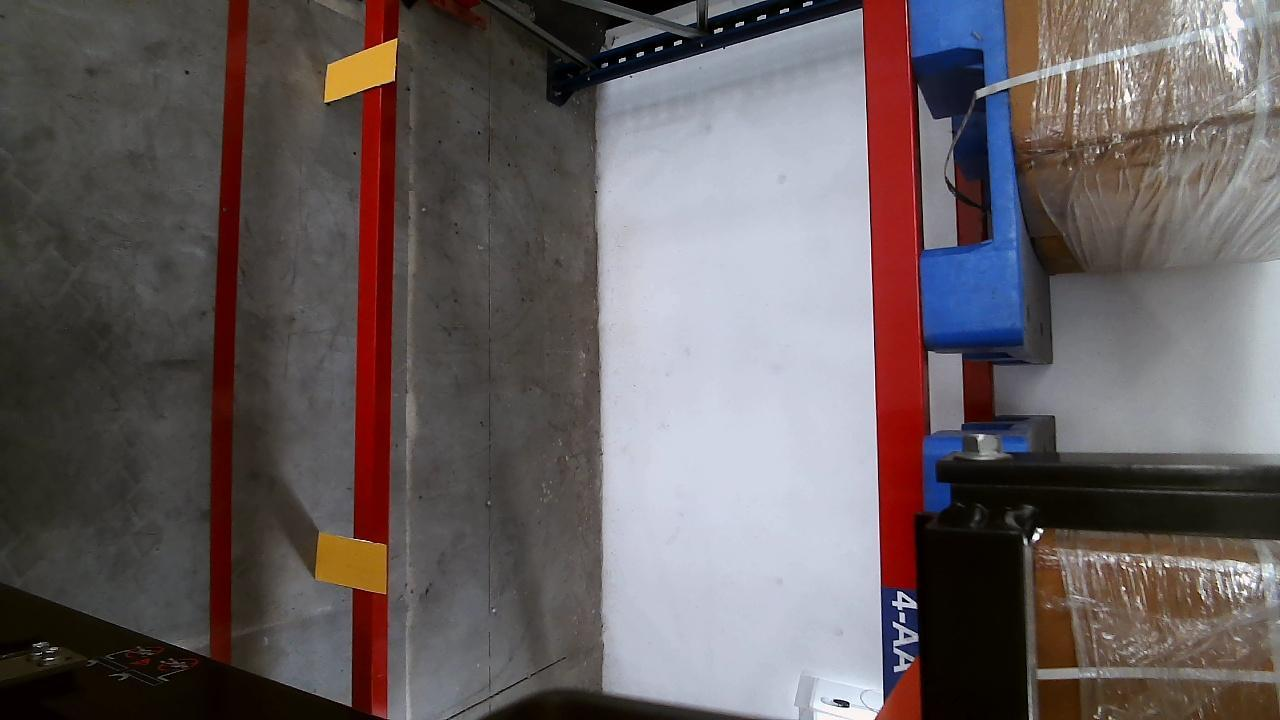h_rack: (859, 0, 928, 720), (352, 1, 386, 713)
orange_strip: (322, 36, 395, 101), (313, 532, 386, 592)
red_line: (207, 3, 251, 660)
